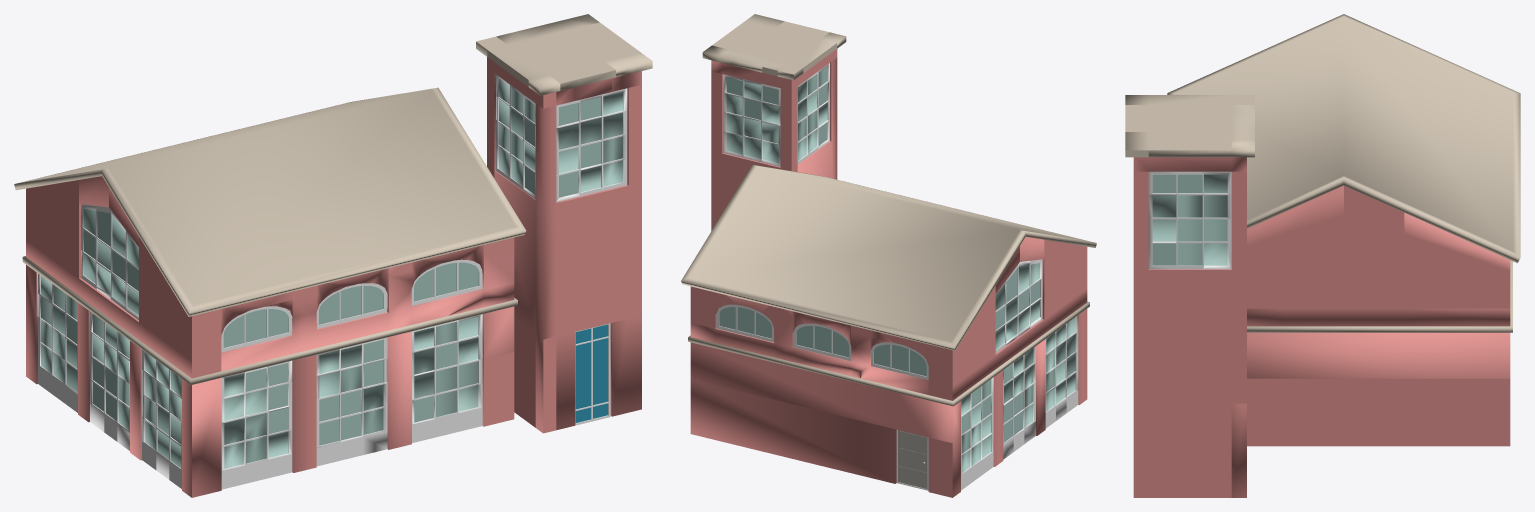
File: Fire.obj
The picture shows the model from 3 angles, left to right: view 1: azimuth 30°, elevation 25°; view 2: azimuth 150°, elevation 25°; view 3: azimuth 270°, elevation 25°; orthographic projection. The views are drawn at different scales.
Parts seen in each view (by area): view 1: Fire_Department, Windows_Front_6, Window_Top_4, Windows_Top_6, Window_Side, Door_Front_4; view 2: Fire_Department, Windows_Front_6, Window_Top_4, Windows_Top_6, Window_Side, Door_Back_3; view 3: Fire_Department, Window_Top_4.
Boxes of the visible parts, left/top/right/bottom form: Fire_Department: left=14, top=14, right=652, bottom=497; Windows_Front_6: left=38, top=273, right=482, bottom=489; Window_Top_4: left=496, top=74, right=627, bottom=202; Windows_Top_6: left=221, top=259, right=482, bottom=352; Window_Side: left=81, top=204, right=138, bottom=319; Door_Front_4: left=575, top=323, right=610, bottom=425; Fire_Department: left=681, top=14, right=1096, bottom=497; Windows_Front_6: left=961, top=315, right=1078, bottom=490; Window_Top_4: left=723, top=63, right=829, bottom=166; Windows_Top_6: left=716, top=304, right=928, bottom=379; Window_Side: left=995, top=259, right=1042, bottom=353; Door_Back_3: left=896, top=430, right=928, bottom=490; Fire_Department: left=1125, top=14, right=1520, bottom=497; Window_Top_4: left=1148, top=171, right=1231, bottom=269.
Size of the model in its own units: 75.87 by 57.55 by 58.43.
